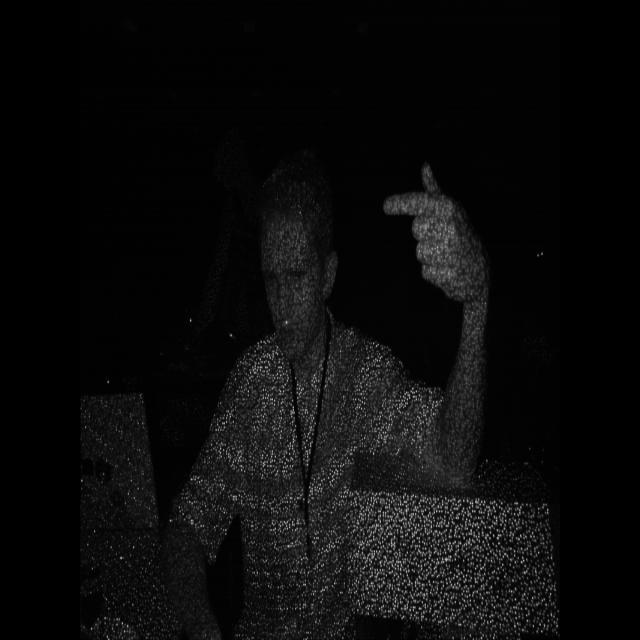G: (372, 151, 499, 315)
